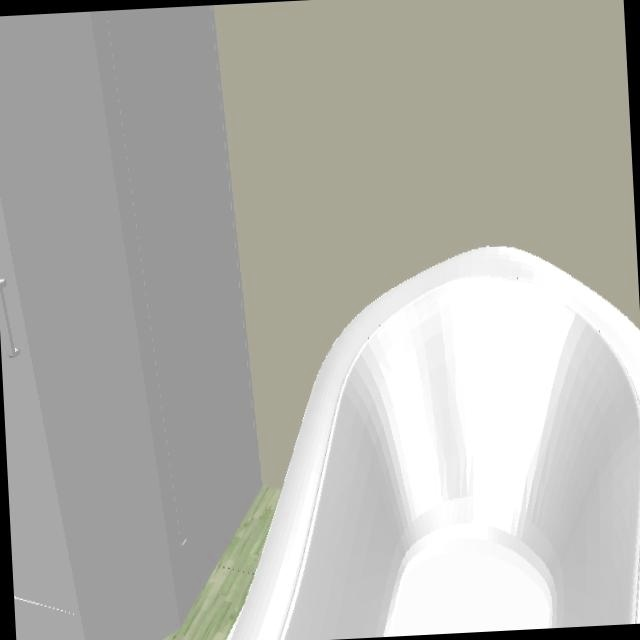bookshelf: (179, 247, 640, 640)
shower: (0, 5, 260, 640)
